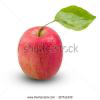Apple leaf: (53, 3, 97, 32)
